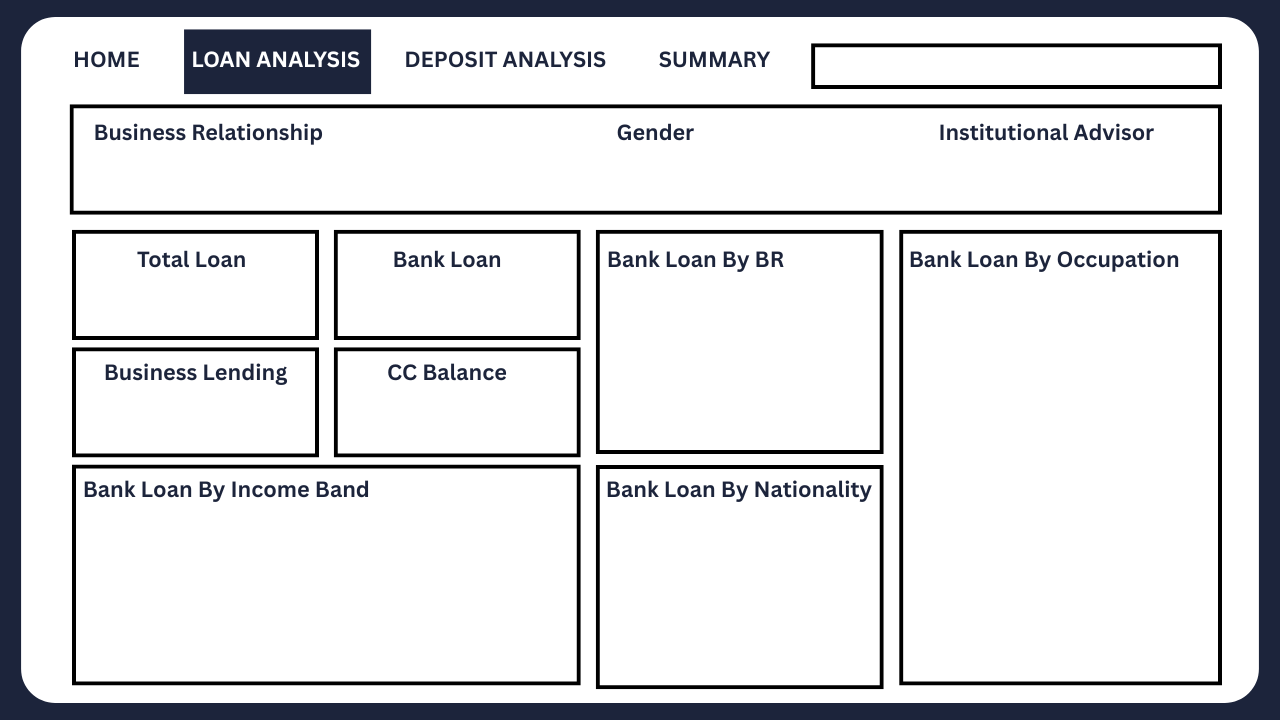

The page's visual inventory and layout, read from the dashboard file:
{"tool":"powerbi","page":{"name":"Loan Analysis","canvas":[1280,720],"ordinal":1},"visuals":[{"type":"slicer","fields":{"Values":["banking_case customer.Year of Joining"]},"box":[811,45,408,39],"z":0},{"type":"actionButton","box":[48,32,112,48],"z":1000},{"type":"actionButton","box":[400,32,208,48],"z":2000},{"type":"actionButton","box":[656,32,112,48],"z":3000},{"type":"card","fields":{"Values":["banking_case customer.Total Loan"]},"box":[128,280,165,48],"z":4000},{"type":"card","fields":{"Values":["Sum(banking_case customer.Bank Loans)"]},"box":[384,288,165,48],"z":5000},{"type":"card","fields":{"Values":["Sum(banking_case customer.Business Lending)"]},"box":[128,400,144,48],"z":6000},{"type":"card","fields":{"Values":["Sum(banking_case customer.Credit Card Balance)"]},"box":[384,400,165,48],"z":7000},{"type":"donutChart","fields":{"Y":["Sum(banking_case customer.Bank Loans)"],"Category":["banking_case customer.Income Band"]},"box":[80,512,480,160],"z":8000},{"type":"clusteredColumnChart","fields":{"Category":["banking_case customer.BRId"],"Y":["Sum(banking_case customer.Bank Loans)"]},"box":[608,272,240,160],"z":9000},{"type":"clusteredColumnChart","fields":{"Category":["banking_case customer.Nationality"],"Y":["Sum(banking_case customer.Bank Loans)"]},"box":[608,512,240,160],"z":10000},{"type":"clusteredColumnChart","fields":{"Category":["banking_case customer.Occupation"],"Y":["Sum(banking_case customer.Bank Loans)"]},"box":[912,288,288,384],"z":11000},{"type":"slicer","fields":{"Values":["banking_case customer.BRId"]},"box":[80,144,440,64],"z":12000},{"type":"slicer","fields":{"Values":["banking_case customer.GenderId"]},"box":[512,144,288,64],"z":13000},{"type":"slicer","fields":{"Values":["banking_case customer.Institutional Advisor"]},"box":[816,152,400,52],"z":14000}]}

Visuals, with their boxes in screenshot pixels (x1, y1, x2, y2), scaled from the page's 1280x720 canvas onto the 1280x720 screenshot:
slicer - banking_case customer.Year of Joining: rect(811, 45, 1219, 84)
actionButton: rect(48, 32, 160, 80)
actionButton: rect(400, 32, 608, 80)
actionButton: rect(656, 32, 768, 80)
card - banking_case customer.Total Loan: rect(128, 280, 293, 328)
card - Sum(banking_case customer.Bank Loans): rect(384, 288, 549, 336)
card - Sum(banking_case customer.Business Lending): rect(128, 400, 272, 448)
card - Sum(banking_case customer.Credit Card Balance): rect(384, 400, 549, 448)
donutChart - Sum(banking_case customer.Bank Loans) x banking_case customer.Income Band: rect(80, 512, 560, 672)
clusteredColumnChart - banking_case customer.BRId x Sum(banking_case customer.Bank Loans): rect(608, 272, 848, 432)
clusteredColumnChart - banking_case customer.Nationality x Sum(banking_case customer.Bank Loans): rect(608, 512, 848, 672)
clusteredColumnChart - banking_case customer.Occupation x Sum(banking_case customer.Bank Loans): rect(912, 288, 1200, 672)
slicer - banking_case customer.BRId: rect(80, 144, 520, 208)
slicer - banking_case customer.GenderId: rect(512, 144, 800, 208)
slicer - banking_case customer.Institutional Advisor: rect(816, 152, 1216, 204)
